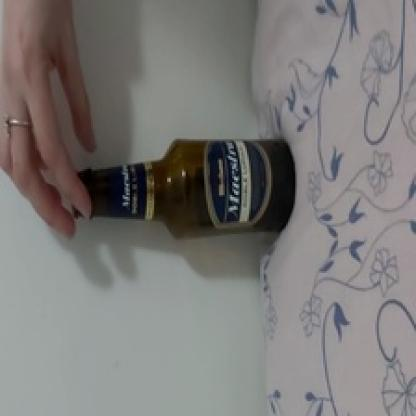Can: (37, 128, 309, 255)
